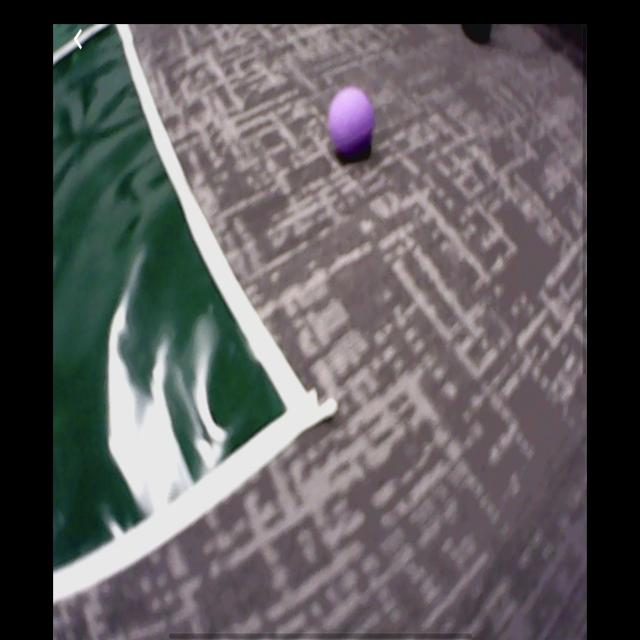ball: (327, 85, 376, 163)
